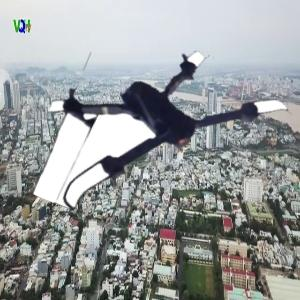drone: (52, 11, 282, 241)
